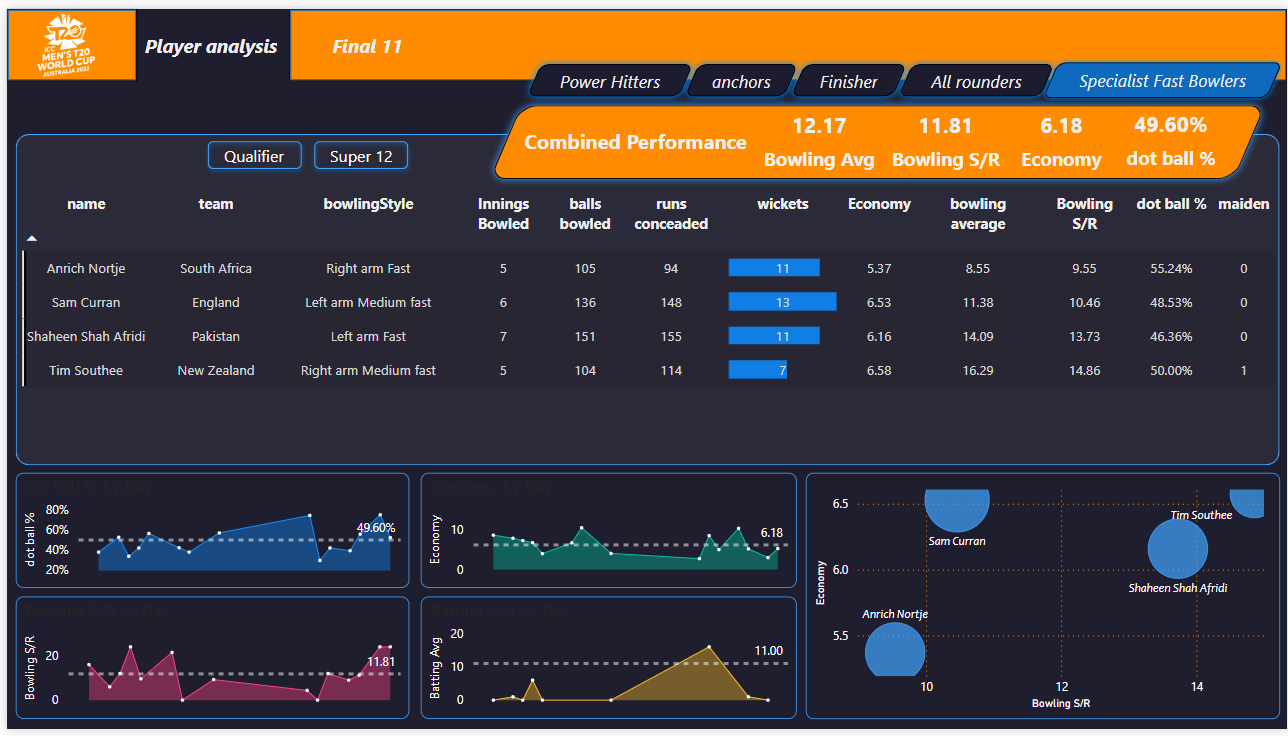

Layout of this report page (visuals, bound fields, positions):
{"tool":"powerbi","page":{"name":"Specialist Fast Bowlers","canvas":[1280,720],"ordinal":5},"visuals":[{"type":"actionButton","box":[0,0,100,40],"z":0},{"type":"lineChart","fields":{"Y":["measures (2).bowling strike rate"],"Category":["match_summery.matchDate.Variation.Date Hierarchy.Day"]},"box":[8.8,587.5,393.8,122.5],"z":1000},{"type":"lineChart","fields":{"Category":["match_summery.matchDate.Variation.Date Hierarchy.Day"],"Y":["measures (2).bowling economy"]},"box":[413.8,463.8,376.2,115],"z":2000},{"type":"lineChart","fields":{"Category":["match_summery.matchDate.Variation.Date Hierarchy.Day"],"Y":["measures (2).dot ball %"]},"box":[8.8,463.8,393.8,115],"z":3000},{"type":"lineChart","fields":{"Y":["measures (2).batting average"],"Category":["match_summery.matchDate.Variation.Date Hierarchy.Day"]},"box":[413.8,587.5,376.2,122.5],"z":4000},{"type":"shape","box":[282.3,0,997.7,72.4],"z":5000},{"type":"shape","box":[8.8,125,1263.8,331.2],"z":6000},{"type":"advancedSlicerVisual","fields":{"Values":["match_summery.match_type"]},"box":[190,121.2,223.8,50],"z":7000},{"type":"shape","box":[474.7,88.8,791.2,88.8],"z":8000},{"type":"actionButton","box":[512.5,47.7,181.2,47.5],"z":9000},{"type":"actionButton","box":[670,47.7,128.8,47.5],"z":10000},{"type":"card","fields":{"Values":["measures (2).bowling average"]},"box":[734.4,94.3,155.1,73],"z":11000},{"type":"actionButton","box":[1031.2,49,248.8,45],"z":12000},{"type":"actionButton","box":[776.2,47.7,131.2,47.5],"z":13000},{"type":"actionButton","box":[883.8,47.7,171.2,47.5],"z":14000},{"type":"card","fields":{"Values":["measures (2).bowling strike rate"]},"box":[869.8,94.3,138.4,73],"z":15000},{"type":"card","fields":{"Values":["measures (2).bowling economy"]},"box":[989.9,94.3,129.2,73],"z":16000},{"type":"card","fields":{"Values":["measures (2).dot ball %"]},"box":[1105.1,92.8,118.3,73.4],"z":17000},{"type":"actionButton","box":[126.7,0,155.6,72.4],"z":18000},{"type":"textbox","title":"Combined Performance","box":[512.5,118.8,277.5,23.8],"z":19000},{"type":"shape","box":[0,0,130.3,72.4],"z":20000},{"type":"textbox","box":[595.9,115.1,601.2,30],"z":21000},{"type":"tableEx","fields":{"Values":["player_info.name","player_info.team","player_info.bowlingStyle","select","measures (2).total innnings bowled","measures (2).balls bowled","measures (2).runs conceaded","measures (2).wickets","measures (2).bowling economy","measures (2).bowling average","measures (2).bowling strike rate","measures (2).dot ball %"]},"box":[8.7,171.8,1264.4,284.3],"z":22000},{"type":"scatterChart","fields":{"Category":["player_info.name"],"X":["measures (2).bowling strike rate"],"Y":["select","measures (2).bowling economy"],"Size":["measures (2).wickets"]},"box":[798.3,463.8,474.4,246.3],"z":23000},{"type":"image","box":[17.1,0,82.7,72.7],"z":24000},{"type":"actionButton","box":[282.5,0,156.2,72.5],"z":25000}]}

Visuals, with their boxes in screenshot pixels (x1, y1, x2, y2), scaled from the page's 1280x720 canvas onto the 1288x736 screenshot:
actionButton: x1=0 y1=0 x2=101 y2=41
lineChart - measures (2).bowling strike rate x match_summery.matchDate.Variation.Date Hierarchy.Day: x1=9 y1=601 x2=405 y2=726
lineChart - match_summery.matchDate.Variation.Date Hierarchy.Day x measures (2).bowling economy: x1=416 y1=474 x2=795 y2=592
lineChart - match_summery.matchDate.Variation.Date Hierarchy.Day x measures (2).dot ball %: x1=9 y1=474 x2=405 y2=592
lineChart - measures (2).batting average x match_summery.matchDate.Variation.Date Hierarchy.Day: x1=416 y1=601 x2=795 y2=726
shape: x1=284 y1=0 x2=1287 y2=74
shape: x1=9 y1=128 x2=1281 y2=466
advancedSlicerVisual - match_summery.match_type: x1=191 y1=124 x2=416 y2=175
shape: x1=478 y1=91 x2=1274 y2=182
actionButton: x1=516 y1=49 x2=698 y2=97
actionButton: x1=674 y1=49 x2=804 y2=97
card - measures (2).bowling average: x1=739 y1=96 x2=895 y2=171
actionButton: x1=1038 y1=50 x2=1287 y2=96
actionButton: x1=781 y1=49 x2=913 y2=97
actionButton: x1=889 y1=49 x2=1062 y2=97
card - measures (2).bowling strike rate: x1=875 y1=96 x2=1015 y2=171
card - measures (2).bowling economy: x1=996 y1=96 x2=1126 y2=171
card - measures (2).dot ball %: x1=1112 y1=95 x2=1231 y2=170
actionButton: x1=127 y1=0 x2=284 y2=74
"Combined Performance" textbox: x1=516 y1=121 x2=795 y2=146
shape: x1=0 y1=0 x2=131 y2=74
textbox: x1=600 y1=118 x2=1205 y2=148
tableEx - player_info.name x player_info.team: x1=9 y1=176 x2=1281 y2=466
scatterChart - player_info.name x measures (2).bowling strike rate: x1=803 y1=474 x2=1281 y2=726
image: x1=17 y1=0 x2=100 y2=74
actionButton: x1=284 y1=0 x2=441 y2=74
